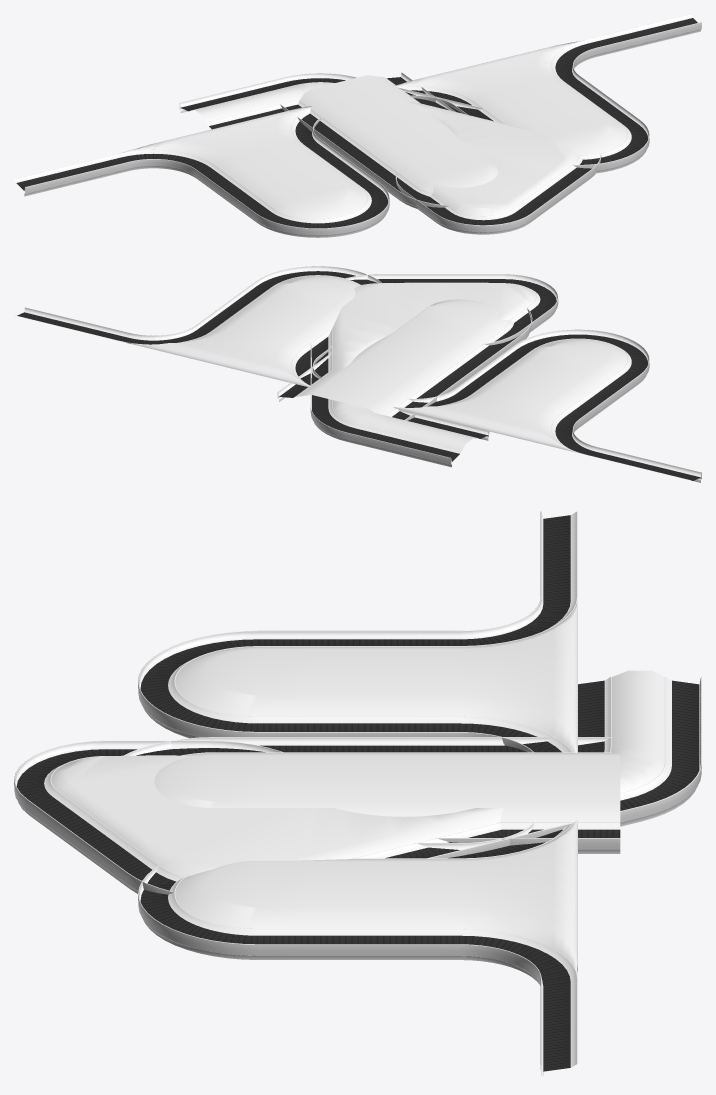
File: gepaeckband.fbx
The picture shows the model from 3 angles, top to bottom: view 1: azimuth 30°, elevation 25°; view 2: azimuth 150°, elevation 25°; view 3: azimuth 270°, elevation 25°; orthographic projection. The views are drawn at different scales.
Visible parts, largest first — view 1: gepaeckband_02, gepaeckband_03, gepaeckband_01; view 2: gepaeckband_02, gepaeckband_03, gepaeckband_01; view 3: gepaeckband_02, gepaeckband_03, gepaeckband_01.
Part boxes in pixels (box(x1,y1,x2,y2)): gepaeckband_02: box(14, 14, 701, 237); gepaeckband_03: box(179, 73, 601, 234); gepaeckband_01: box(280, 72, 497, 208); gepaeckband_02: box(14, 266, 701, 482); gepaeckband_03: box(310, 274, 558, 467); gepaeckband_01: box(277, 299, 532, 420); gepaeckband_02: box(138, 511, 577, 1075); gepaeckband_03: box(14, 670, 701, 894); gepaeckband_01: box(124, 737, 620, 853).
Size of the model in its own units: 4142 by 90 by 2178.
